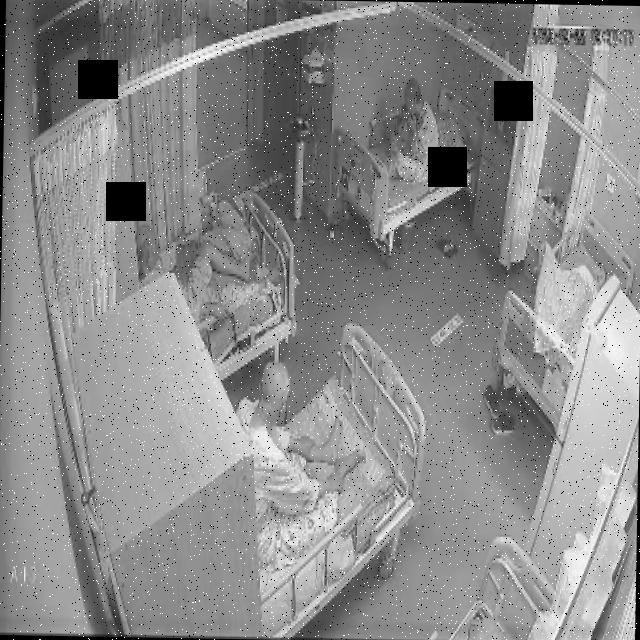bed: (248, 323, 427, 640), (492, 210, 638, 435), (169, 193, 297, 386), (333, 85, 478, 242)
lie: (136, 223, 282, 328)
patient: (231, 348, 366, 568), (134, 220, 282, 330), (384, 78, 440, 190)
sit: (232, 346, 364, 564), (386, 78, 438, 190)
